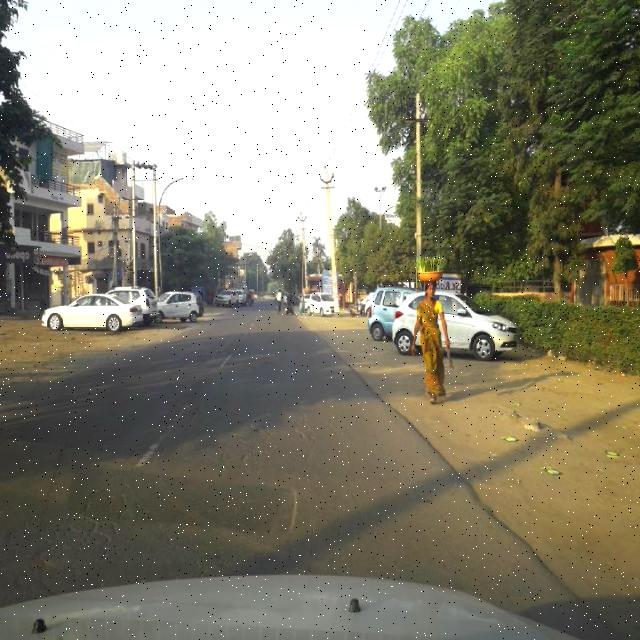D20: (17, 468, 153, 576), (193, 401, 316, 492)
